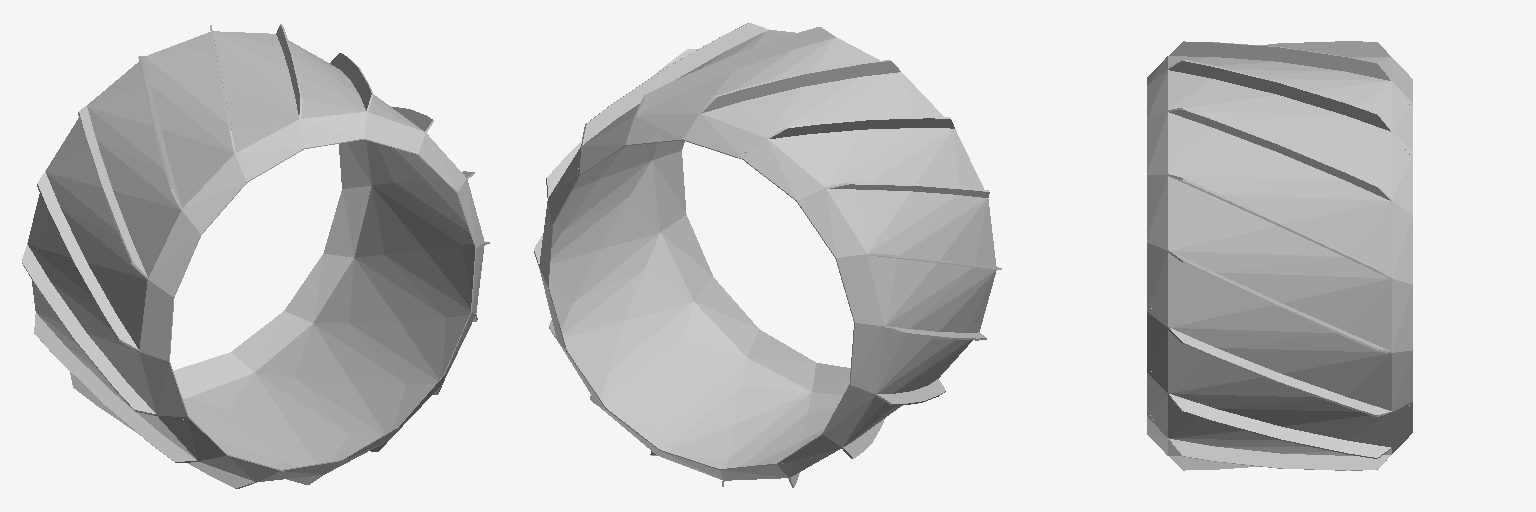
Rendered from BestWheelYet.obj.
3 views of the same model, side by side, from view 1: azimuth 30°, elevation 25°; view 2: azimuth 150°, elevation 25°; view 3: azimuth 270°, elevation 25° (orthographic).
Visible parts, largest first — view 1: sheetmetal_v4_demo_wheel; view 2: sheetmetal_v4_demo_wheel; view 3: sheetmetal_v4_demo_wheel.
Boxes of the visible parts, x1,y1,x2,y2 form: sheetmetal_v4_demo_wheel: [22, 24, 489, 488]; sheetmetal_v4_demo_wheel: [534, 23, 1001, 487]; sheetmetal_v4_demo_wheel: [1147, 41, 1412, 470].
Size of the model in its own units: 32.19 by 32.19 by 20.